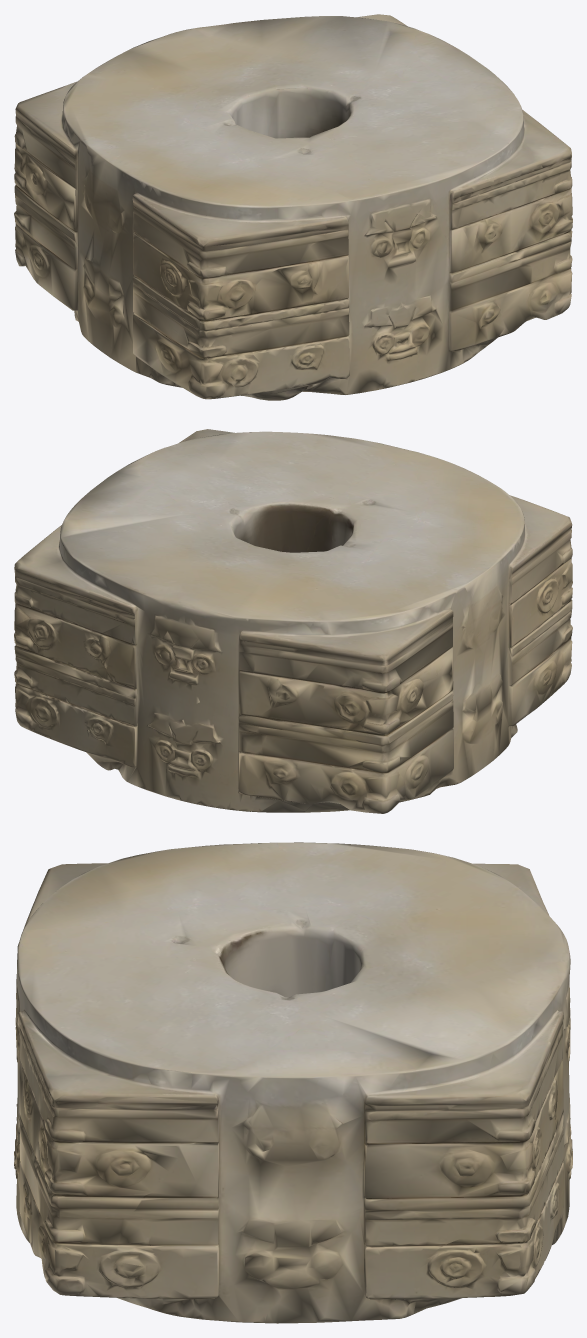
File: liangzhu-king-roaming.glb
3 renders of one model, top to bottom at view 1: azimuth 30°, elevation 25°; view 2: azimuth 150°, elevation 25°; view 3: azimuth 270°, elevation 25°, orthographic. The views are drawn at different scales.
Parts seen in each view (by area): view 1: node_0; view 2: node_0; view 3: node_0.
Part boxes in pixels (left/top/right/bottom): node_0: left=14, top=14, right=572, bottom=400; node_0: left=14, top=429, right=572, bottom=813; node_0: left=14, top=842, right=572, bottom=1323.
Bounding box in the file's own units: 0.8916 × 0.4451 × 0.8882.
1 material, 1 textured.
